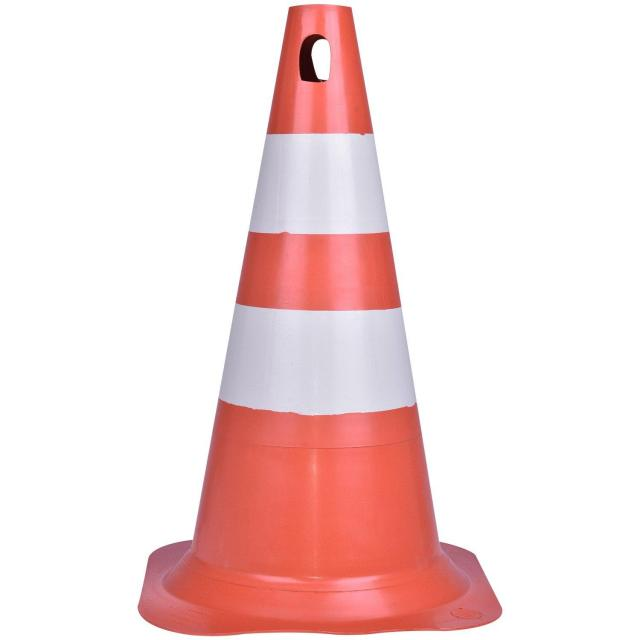cone: (126, 2, 517, 626)
